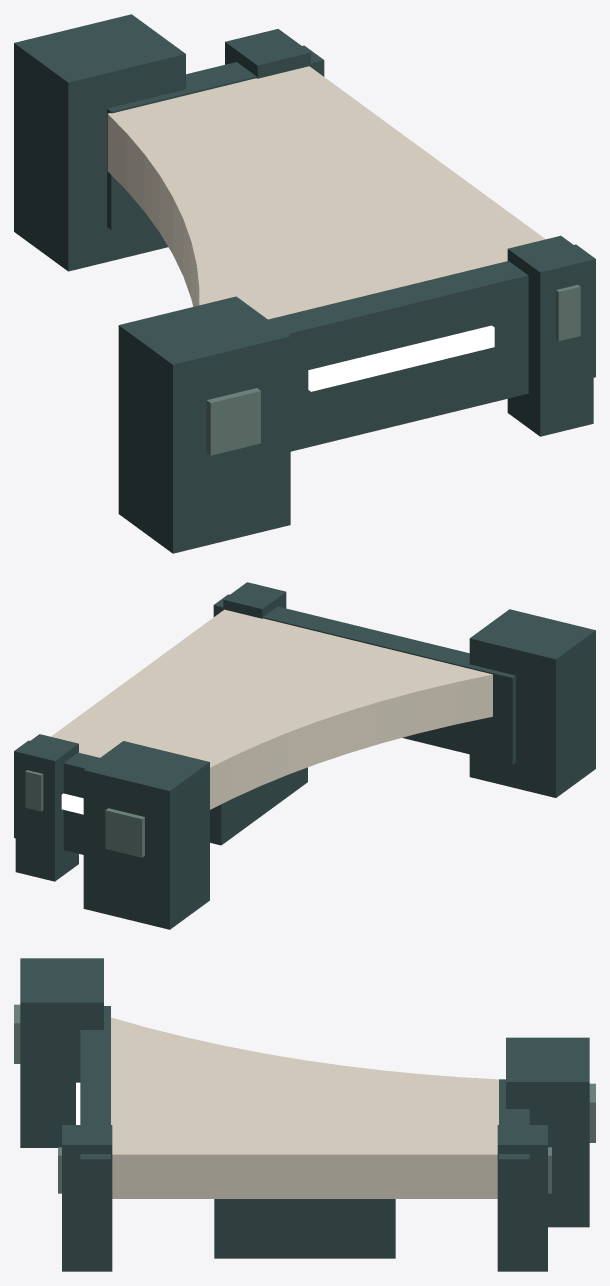
Rendered from Pier_Angled_20_lab.glb.
The picture shows the model from 3 angles, top to bottom: view 1: azimuth 30°, elevation 25°; view 2: azimuth 150°, elevation 25°; view 3: azimuth 270°, elevation 25°; orthographic projection. The views are drawn at different scales.
Parts seen in each view (by area): view 1: Pier_Angled_20; view 2: Pier_Angled_20; view 3: Pier_Angled_20.
Part boxes in pixels (box(x1,y1,x2,y2)): Pier_Angled_20: box(14, 14, 595, 553); Pier_Angled_20: box(14, 582, 595, 929); Pier_Angled_20: box(14, 958, 595, 1271).
Bounding box in the file's own units: 2.94 × 1.15 × 4.17.
